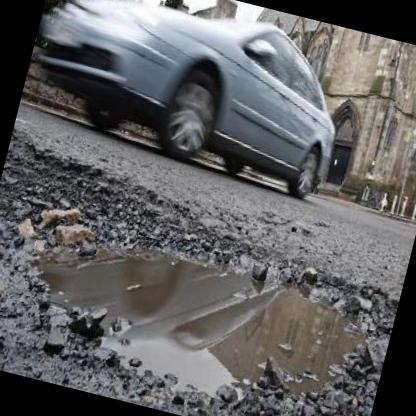pothole: (0, 177, 403, 416)
